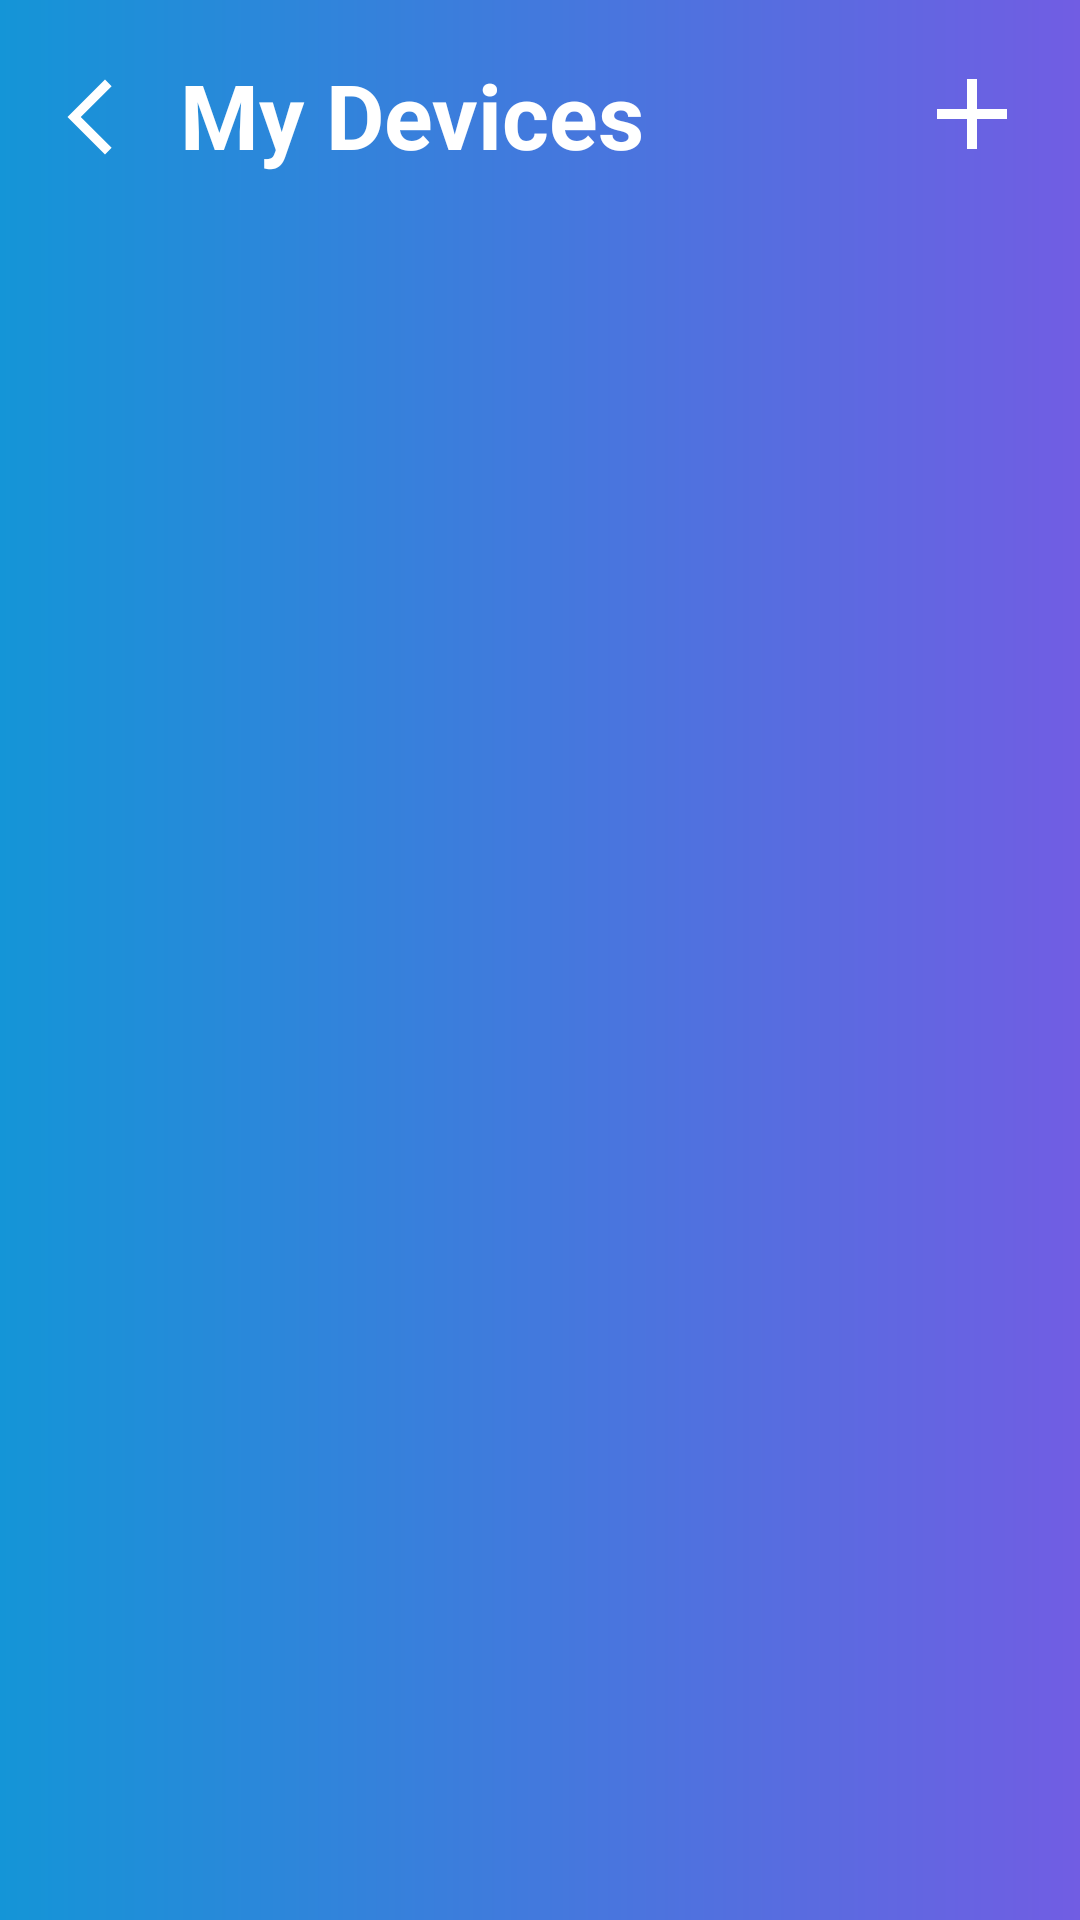

Where icons sit on this 1080w x 1920h app screen, as box=[x1, y1, x2, y2]:
add: box=[937, 79, 1007, 149]
arrow back: box=[67, 79, 112, 155]
